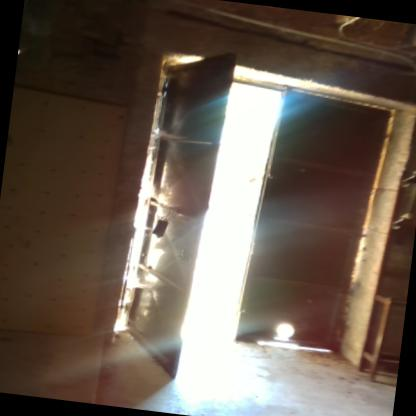semi: (110, 31, 415, 388)
